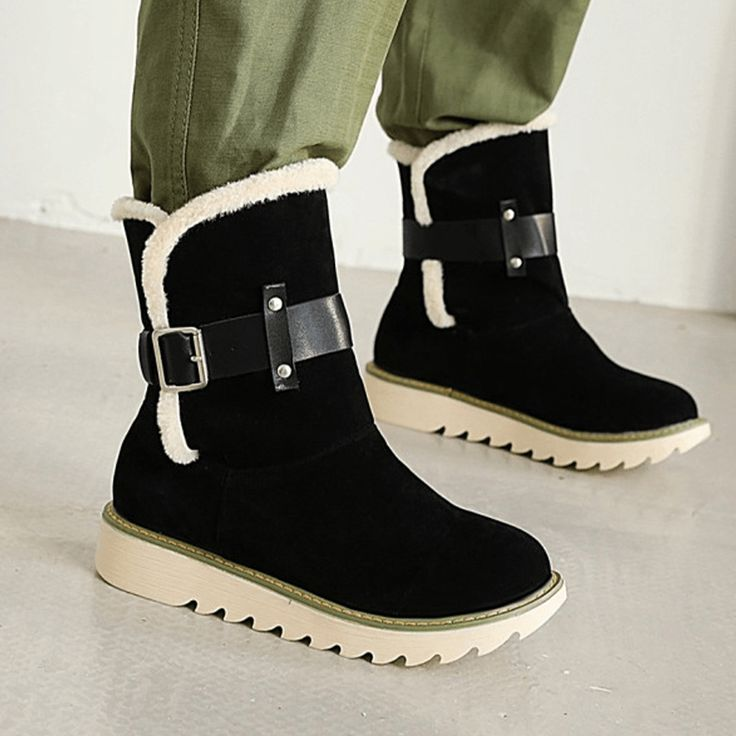gamuza: (103, 120, 700, 618)
